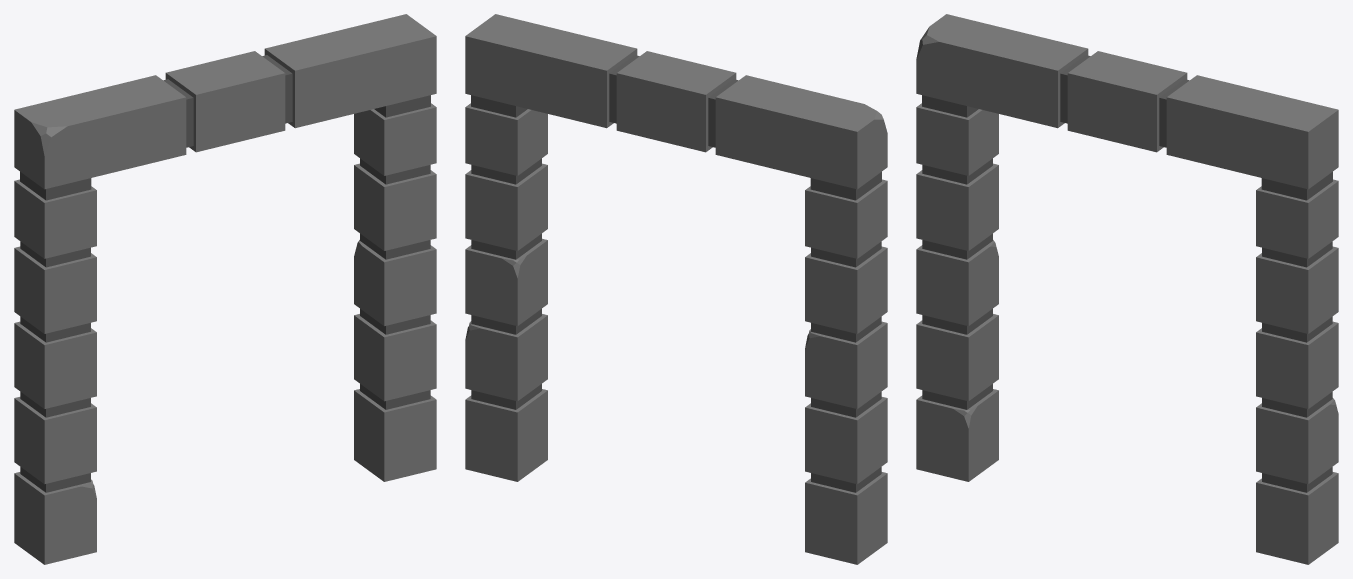
Rendered from Arch_06.fbx.
3 views of the same model, side by side, from view 1: azimuth 30°, elevation 25°; view 2: azimuth 150°, elevation 25°; view 3: azimuth 330°, elevation 25° (orthographic).
Visible parts, largest first — view 1: Arch_06; view 2: Arch_06; view 3: Arch_06.
Part boxes in pixels (bbox=[...]): Arch_06: bbox=[14, 14, 436, 564]; Arch_06: bbox=[465, 14, 887, 564]; Arch_06: bbox=[916, 14, 1338, 564].
Size of the model in its own units: 219 by 231 by 29.34.
